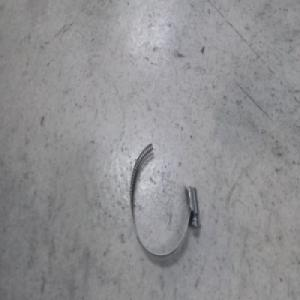AdjustableClamp: (128, 141, 198, 258)
